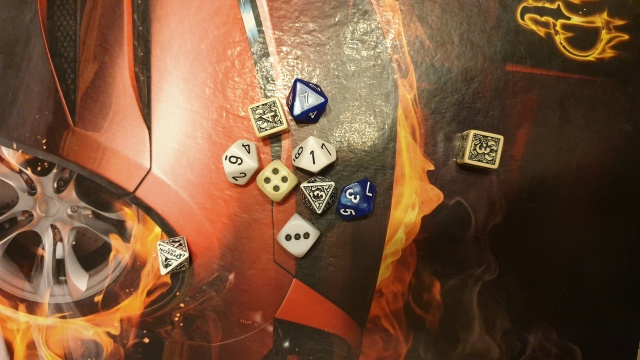d10-1: (286, 133, 341, 175)
d10-3: (331, 174, 377, 223)
d10-6: (215, 132, 258, 190)
d10-7: (287, 77, 323, 114)
d6-3: (274, 213, 321, 258)
d6-4: (253, 156, 301, 206)
d6p-3: (454, 125, 506, 175)
d6p-4: (241, 95, 289, 140)
d8p-1: (153, 229, 194, 280)
d8p-3: (298, 171, 335, 215)
